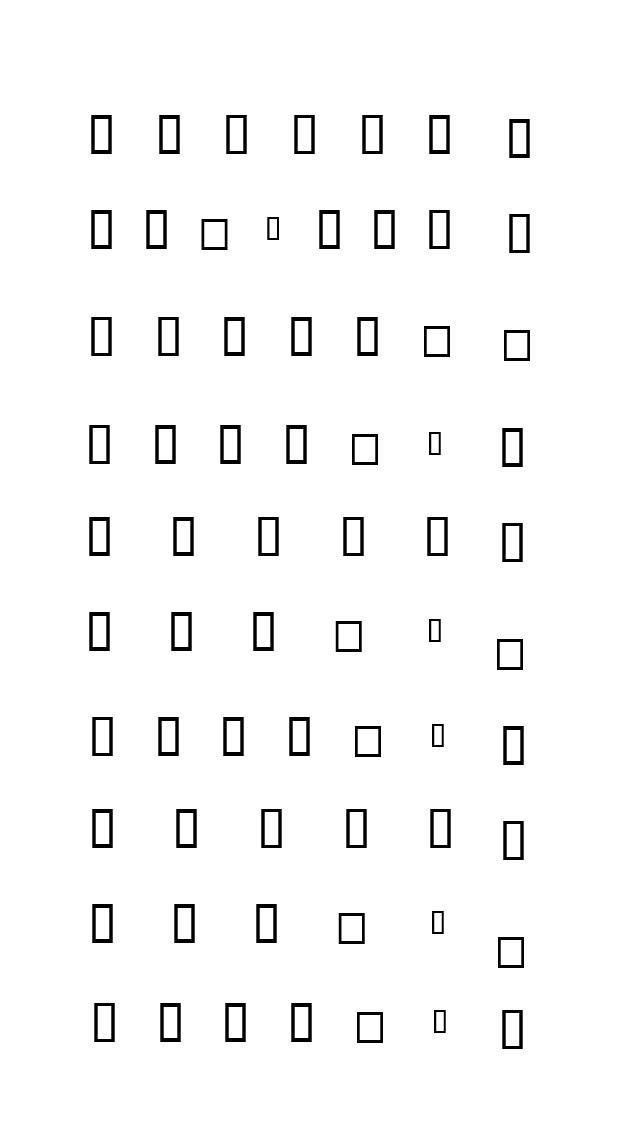ASCII: (418, 321, 457, 361), (505, 114, 536, 163), (86, 111, 118, 158), (315, 204, 345, 254), (285, 315, 317, 360), (353, 313, 383, 361), (198, 212, 232, 254), (359, 109, 389, 156), (218, 313, 248, 359), (142, 208, 172, 252), (506, 210, 534, 257), (500, 324, 532, 365), (88, 312, 115, 360), (88, 204, 116, 249), (427, 204, 452, 254), (493, 932, 526, 969), (353, 1010, 385, 1048), (156, 313, 182, 359), (254, 901, 280, 947), (260, 804, 284, 853), (340, 514, 366, 559), (158, 113, 184, 157), (88, 609, 113, 654), (426, 111, 452, 154), (344, 807, 370, 850), (174, 806, 200, 849), (284, 422, 309, 466), (172, 516, 197, 560), (92, 806, 117, 850), (222, 999, 247, 1043), (293, 112, 317, 157), (373, 207, 397, 252), (88, 514, 112, 559), (499, 634, 526, 674), (501, 1010, 526, 1053), (288, 717, 313, 759), (351, 724, 381, 759), (290, 996, 310, 1048), (226, 112, 250, 155), (218, 422, 243, 463), (352, 431, 378, 470), (501, 522, 524, 566), (170, 612, 194, 654), (154, 422, 176, 466), (92, 716, 115, 758), (503, 816, 524, 862), (250, 610, 274, 650), (334, 620, 362, 654), (339, 909, 366, 944), (90, 904, 114, 943), (88, 424, 110, 466), (503, 427, 525, 468), (259, 514, 279, 559), (432, 806, 451, 853), (161, 1000, 181, 1044), (94, 1005, 115, 1046), (223, 714, 243, 756), (500, 726, 522, 764), (159, 718, 180, 757), (428, 518, 447, 560), (262, 210, 284, 243), (428, 906, 447, 938), (177, 903, 191, 945), (429, 719, 447, 751), (426, 617, 445, 644), (433, 1007, 448, 1036), (427, 426, 441, 456)
